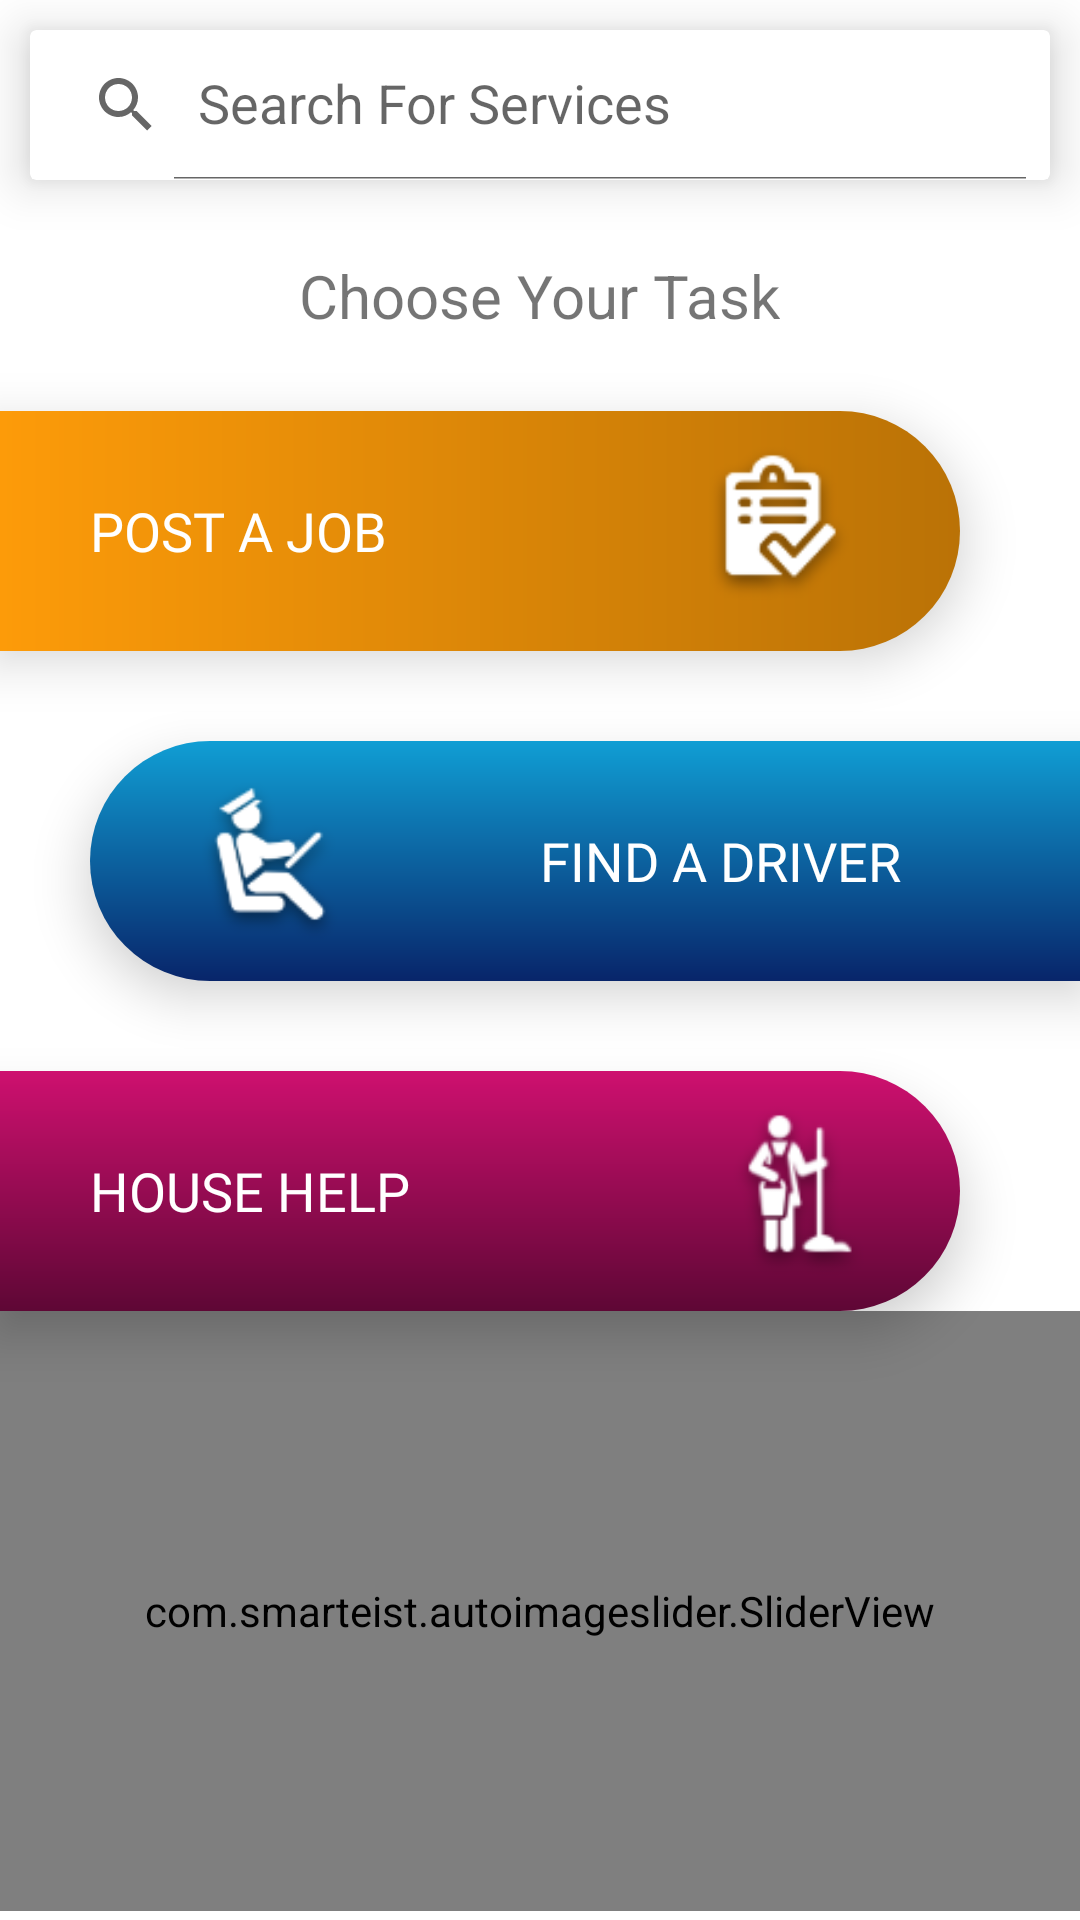

Icon click points for this 1080x1920 phone screenshot, format (x=x, y=y):
driver: (x=270, y=861)
house help: (x=800, y=1191)
post job: (x=779, y=522)
